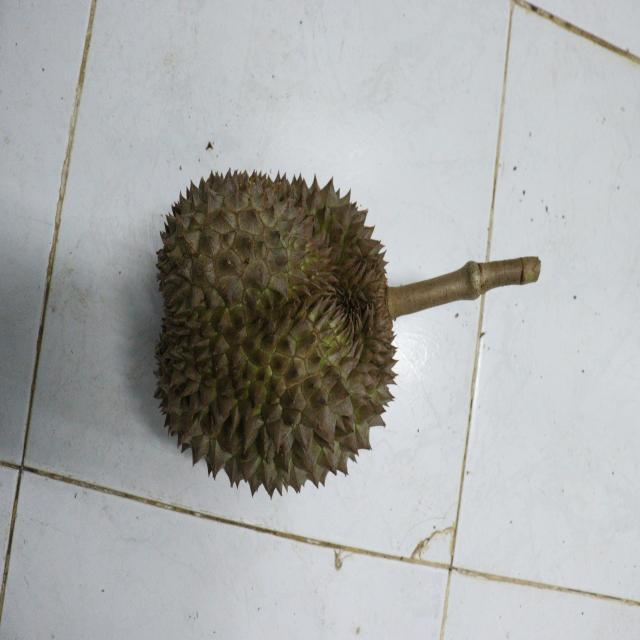mature: (153, 165, 400, 502)
